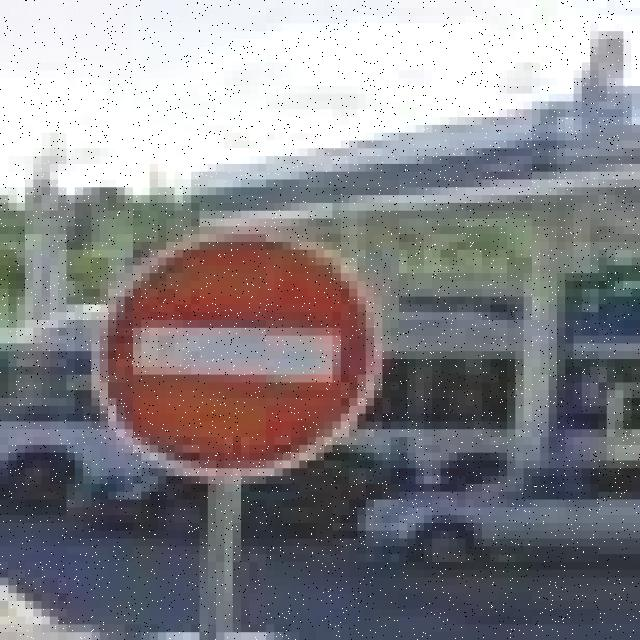Zakaz wjazdu: (91, 226, 382, 484)
